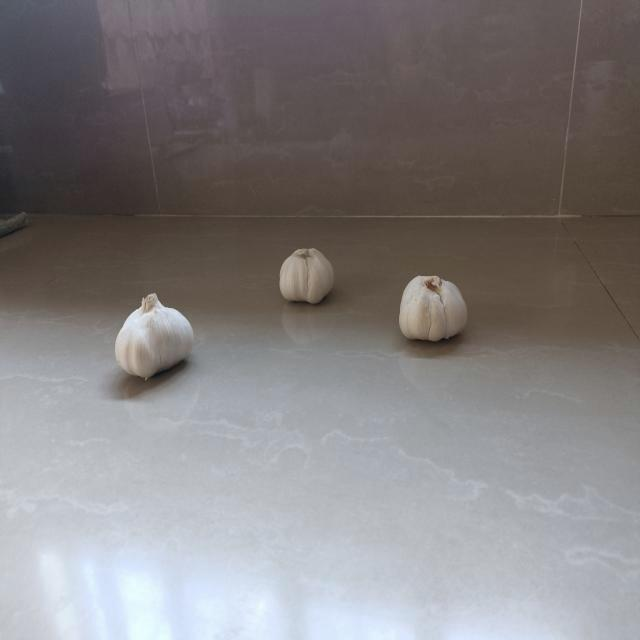garlic: (111, 292, 197, 383), (397, 272, 471, 350), (275, 239, 338, 307)
